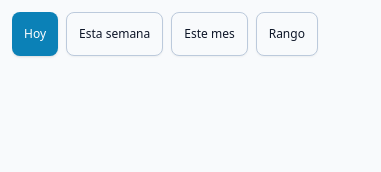
PeriodFilter › presets y rango (ordenado, solo con fechas completas)
Click the button "Esta semana" at x=115, y=34, box top-left (66, 12), bottom-right (163, 56)
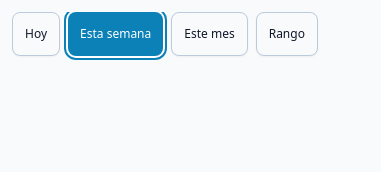
Click the button "Este mes" at x=210, y=34, box top-left (171, 12), bottom-right (248, 56)
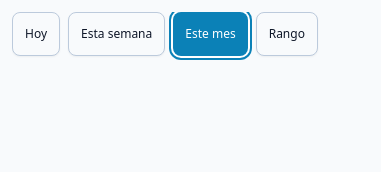
Click the button "Rango" at x=287, y=34, box top-left (256, 12), bottom-right (318, 56)
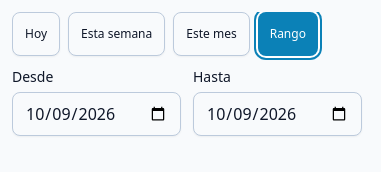
Clear the date field labelled "Desde" at x=96, y=114, box top-left (12, 92), bottom-right (181, 136)
Type "2026-10-20" into the date field labelled "Desde" at x=96, y=114, box top-left (12, 92), bottom-right (181, 136)
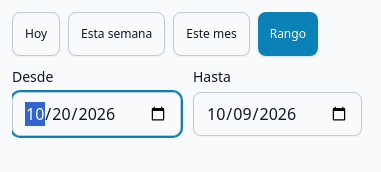
Type "2026-10-25" into the date field labelled "Hasta" at x=278, y=114, box top-left (193, 92), bottom-right (362, 136)
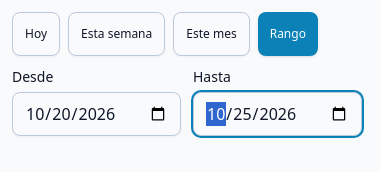
Click the button "Hoy" at x=36, y=34, box top-left (12, 12), bottom-right (60, 56)
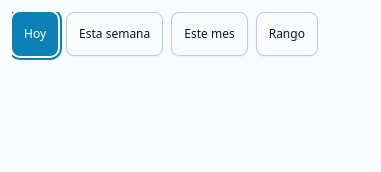
Result: the label labelled "Desde" is gone
